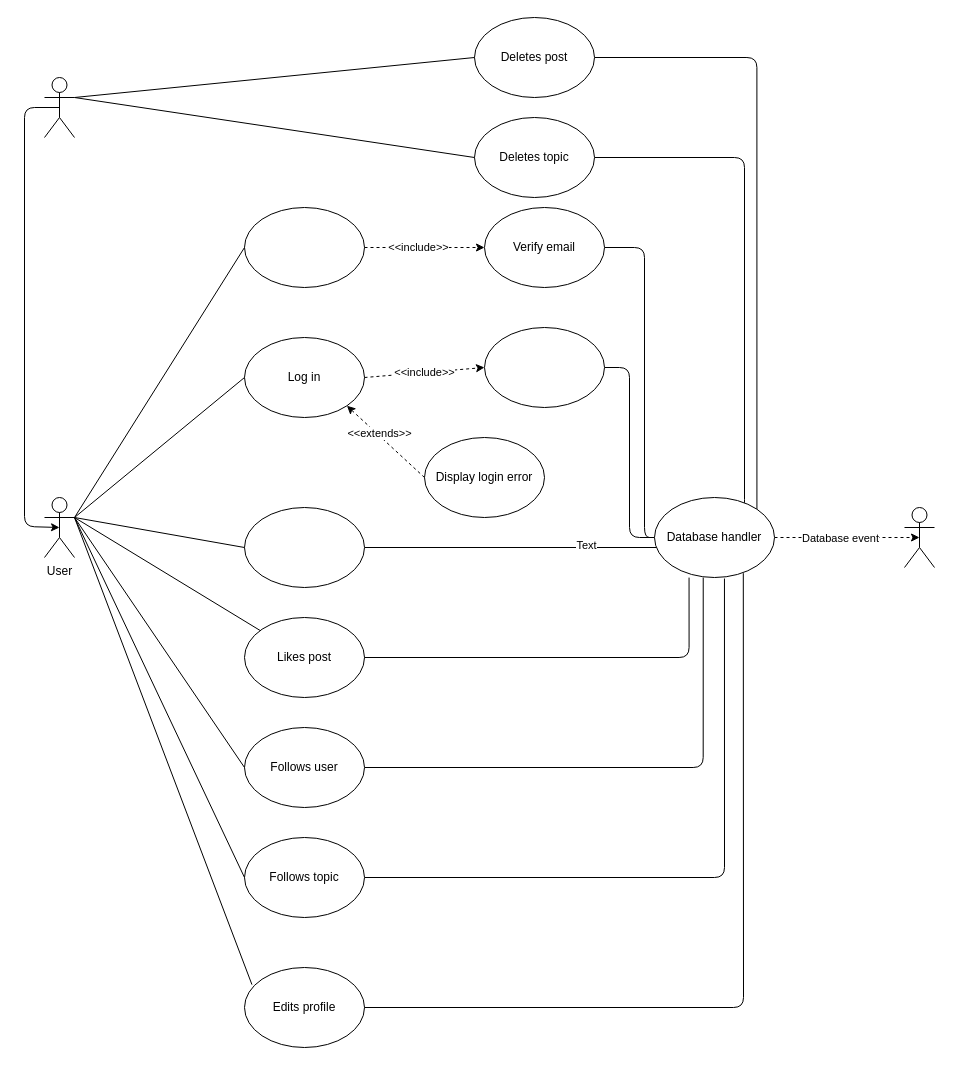
This 962x1065 diagram has some shape labels left out. Each missing label, with the box of its shape:
Admin: (44, 76, 74, 138)
Database: (904, 506, 934, 568)
Posts: (244, 506, 364, 588)
Registers: (244, 206, 364, 288)
Verify password: (484, 326, 604, 408)
